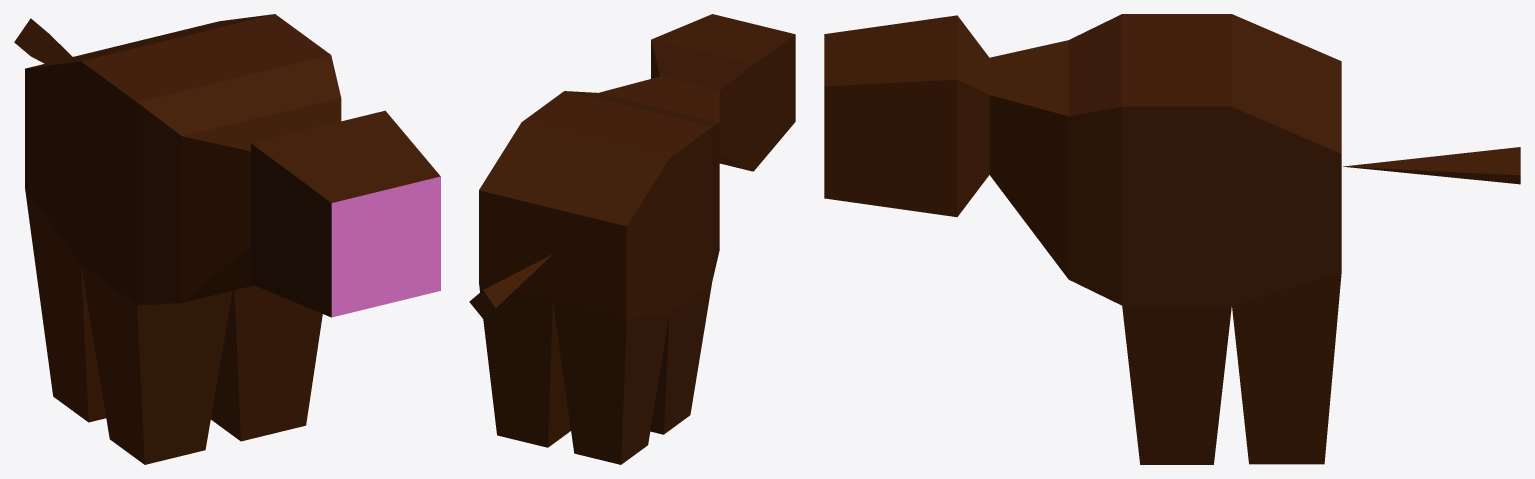
File: cat.glb
3 views of the same model, side by side, from view 1: azimuth 30°, elevation 25°; view 2: azimuth 150°, elevation 25°; view 3: azimuth 270°, elevation 25° (orthographic). The views are drawn at different scales.
Parts seen in each view (by area): view 1: Cube; view 2: Cube; view 3: Cube.
Boxes of the visible parts, box(x1,y1,x2,y2) form: Cube: box(14, 14, 440, 464); Cube: box(469, 14, 795, 464); Cube: box(824, 14, 1520, 464).
Bounding box in the file's own units: 3.23 × 6.17 × 10.25.
1 material, 1 textured.
